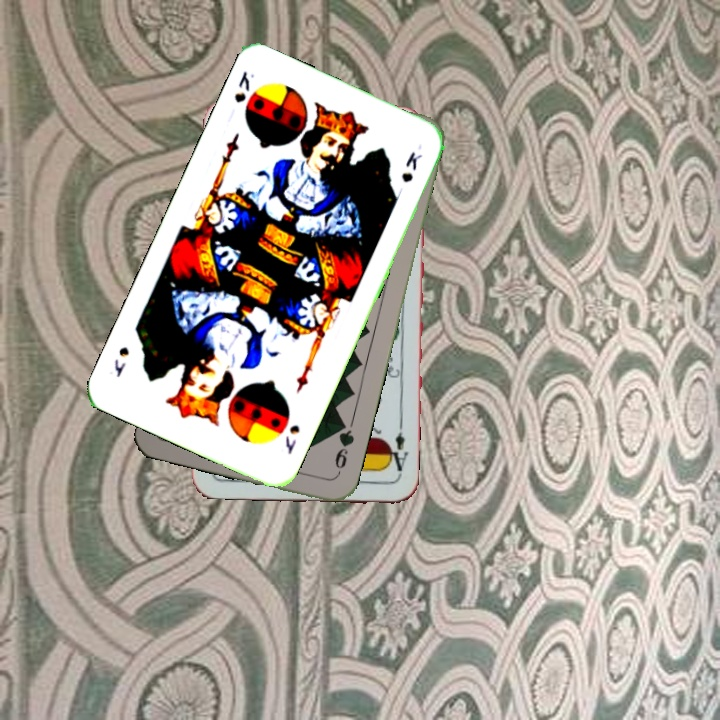EA: (384, 420, 411, 479)
G9: (331, 418, 357, 478)
SK: (230, 66, 257, 106), (281, 420, 303, 458)
